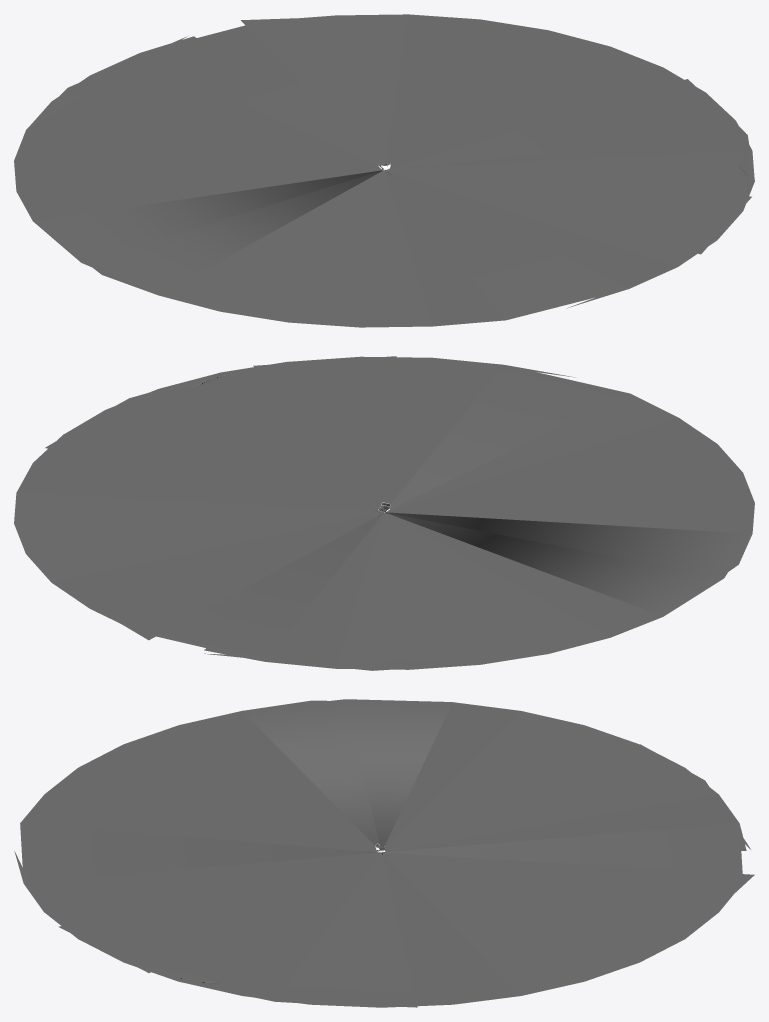
The model's file is lounge-chair-metal.glb.
3 views of the same model, one above another, from view 1: azimuth 30°, elevation 25°; view 2: azimuth 150°, elevation 25°; view 3: azimuth 270°, elevation 25° (orthographic).
Parts seen in each view (by area): view 1: Object_23; view 2: Object_23; view 3: Object_23.
Part boxes in pixels (x1,y1,x2,y2): Object_23: (14,14,754,327); Object_23: (14,356,754,670); Object_23: (14,699,754,1007).
Size of the model in its own units: 65.77 by 0.8636 by 66.74.
4 materials, 2 textured.
